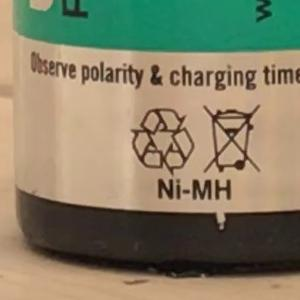NI-MH: (148, 169, 241, 210)
